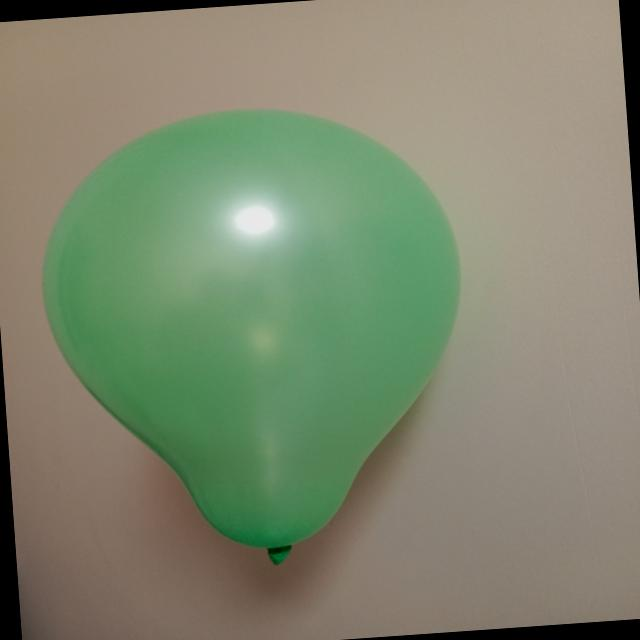balloon: (43, 109, 460, 562)
